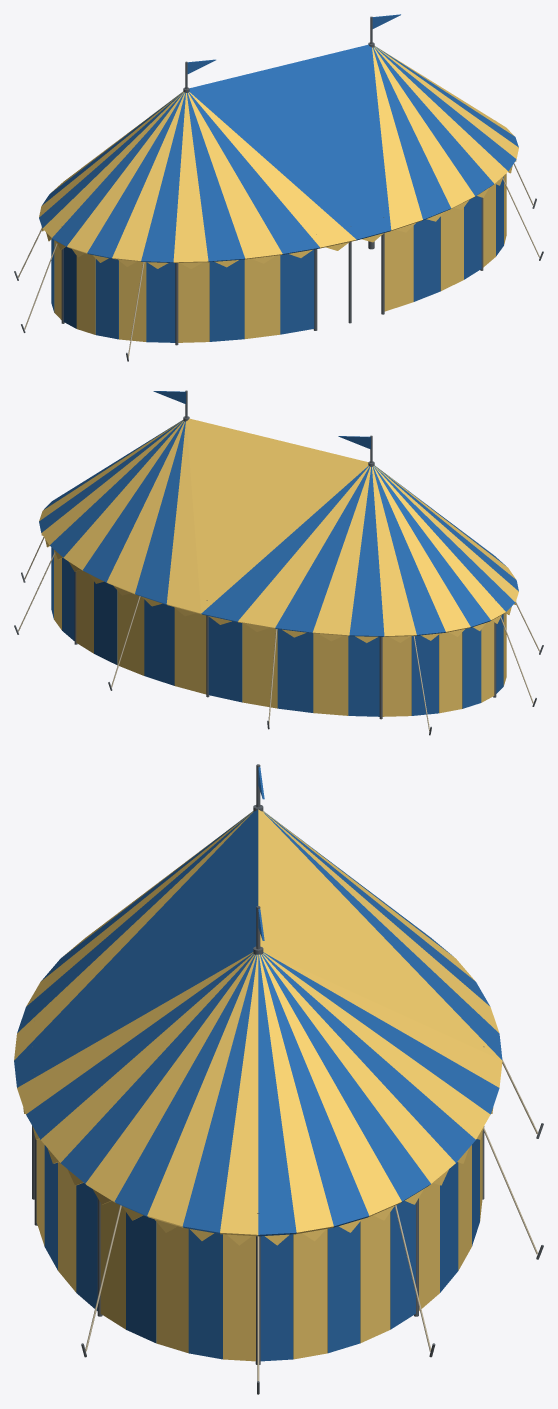
The model's file is circus_tent_twin_mast.glb.
3 views of the same model, one above another, from view 1: azimuth 30°, elevation 25°; view 2: azimuth 150°, elevation 25°; view 3: azimuth 270°, elevation 25° (orthographic). The views are drawn at different scales.
Parts seen in each view (by area): view 1: Elongated twin-peak striped roof, Twin-mast tent striped canvas walls, Twin-mast tent pointed valance; view 2: Elongated twin-peak striped roof, Twin-mast tent striped canvas walls, Twin-mast tent pointed valance; view 3: Elongated twin-peak striped roof, Twin-mast tent striped canvas walls, Twin-mast tent pointed valance.
Boxes of the visible parts, x1,y1,x2,y2 form: Elongated twin-peak striped roof: [39, 44, 518, 262]; Twin-mast tent striped canvas walls: [51, 173, 506, 342]; Twin-mast tent pointed valance: [42, 160, 516, 268]; Elongated twin-peak striped roof: [39, 418, 518, 636]; Twin-mast tent striped canvas walls: [51, 547, 506, 716]; Twin-mast tent pointed valance: [41, 534, 515, 642]; Elongated twin-peak striped roof: [14, 809, 502, 1236]; Twin-mast tent striped canvas walls: [36, 1133, 482, 1361]; Twin-mast tent pointed valance: [23, 1107, 493, 1245].
Bounding box in the file's own units: 16.75 × 7.17 × 9.48.
